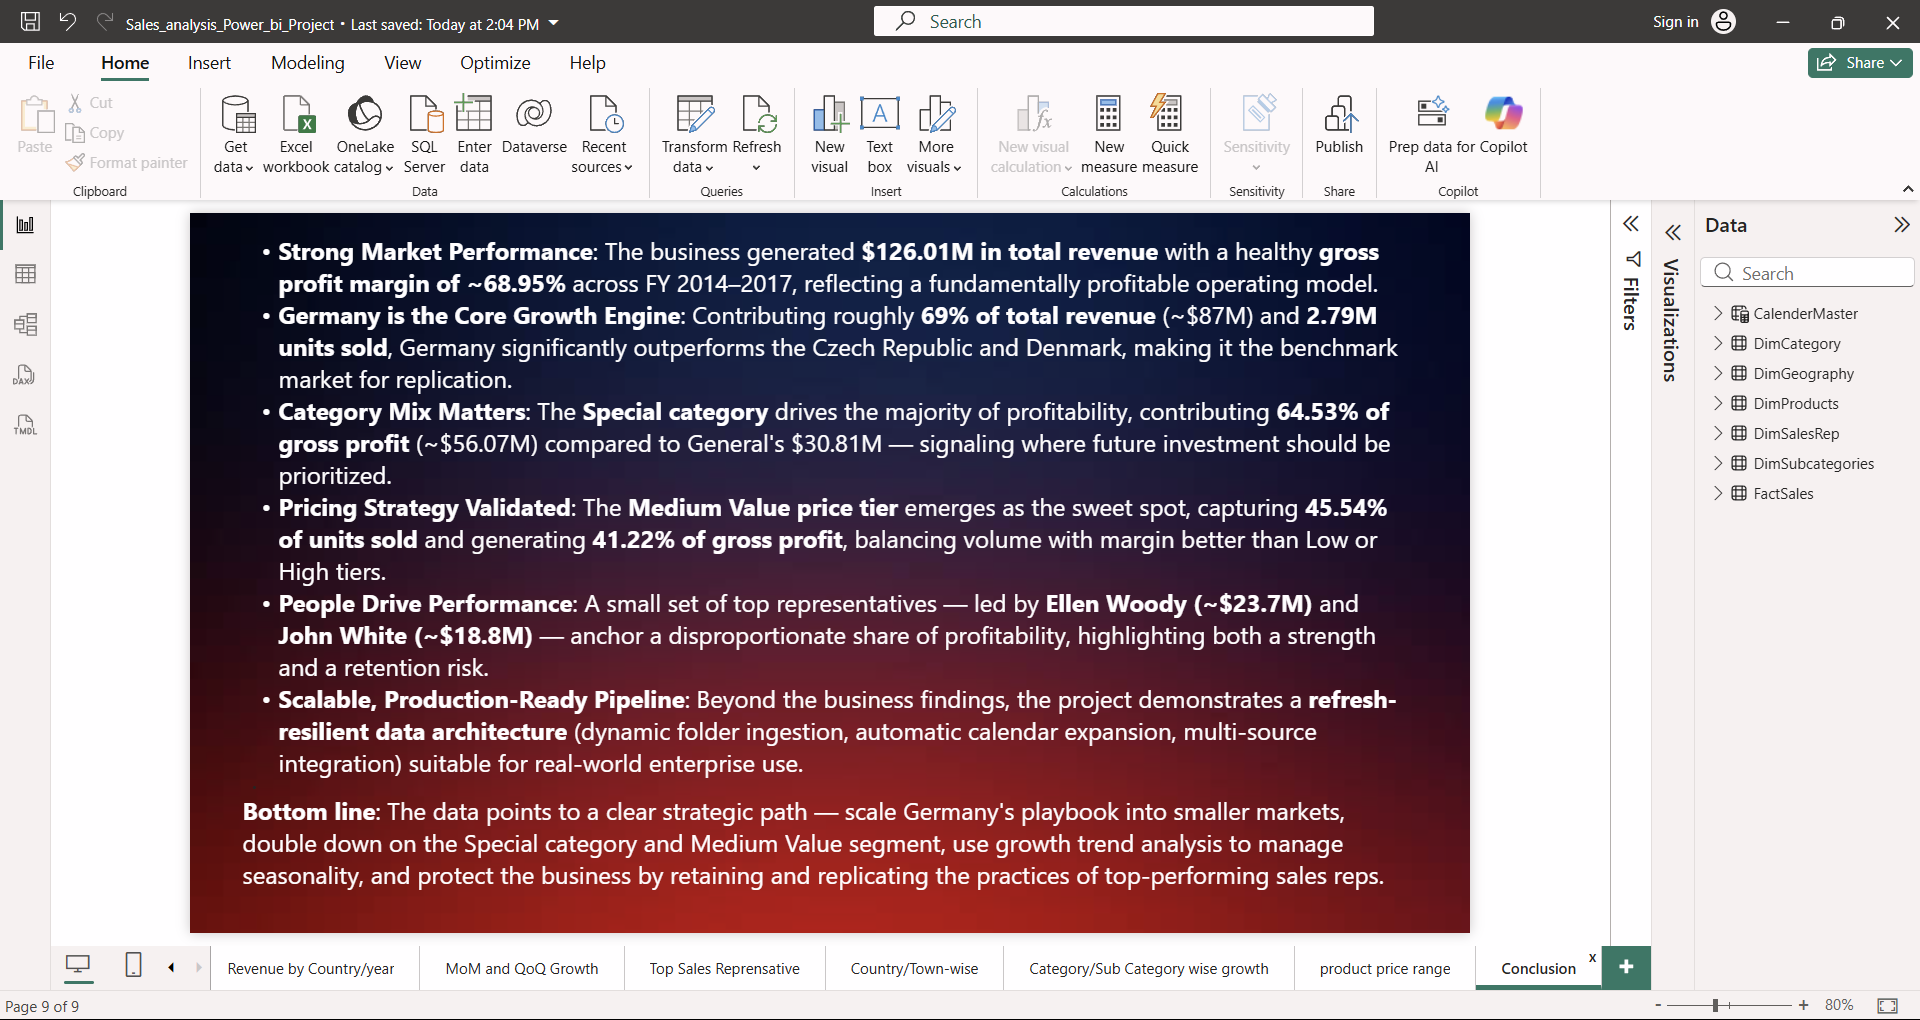

Layout of this report page (visuals, bound fields, positions):
{"tool":"powerbi","page":{"name":"Conclusion","canvas":[1280,720],"ordinal":8},"visuals":[{"type":"textbox","box":[48,16,1184,688],"z":0}]}

Visuals, with their boxes on the page's 1280x720 design canvas (x1, y1, x2, y2). These are canvas units, not pixel positions in the 1920x1020 screenshot, which may show the page scaled, cropped or inside an application window:
textbox: {"left": 48, "top": 16, "right": 1232, "bottom": 704}
